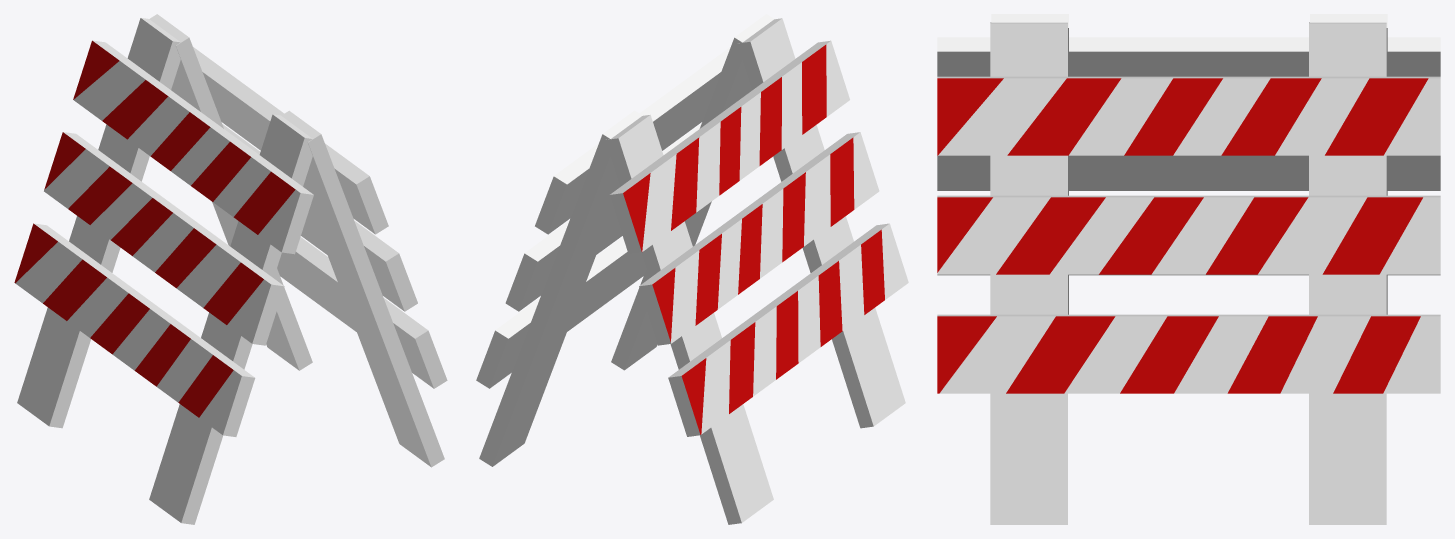
The model's file is fence3.fbx.
3 renders of one model, left to right at view 1: azimuth 30°, elevation 25°; view 2: azimuth 150°, elevation 25°; view 3: azimuth 270°, elevation 25°, orthographic. The views are drawn at different scales.
Parts seen in each view (by area): view 1: Cube.002; view 2: Cube.002; view 3: Cube.002.
Part boxes in pixels (x1=…): Cube.002: x1=14, y1=14, x2=447, y2=524; Cube.002: x1=476, y1=14, x2=908, y2=524; Cube.002: x1=937, y1=14, x2=1440, y2=524.
Bounding box in the file's own units: 13.62 × 17.8 × 18.67.
